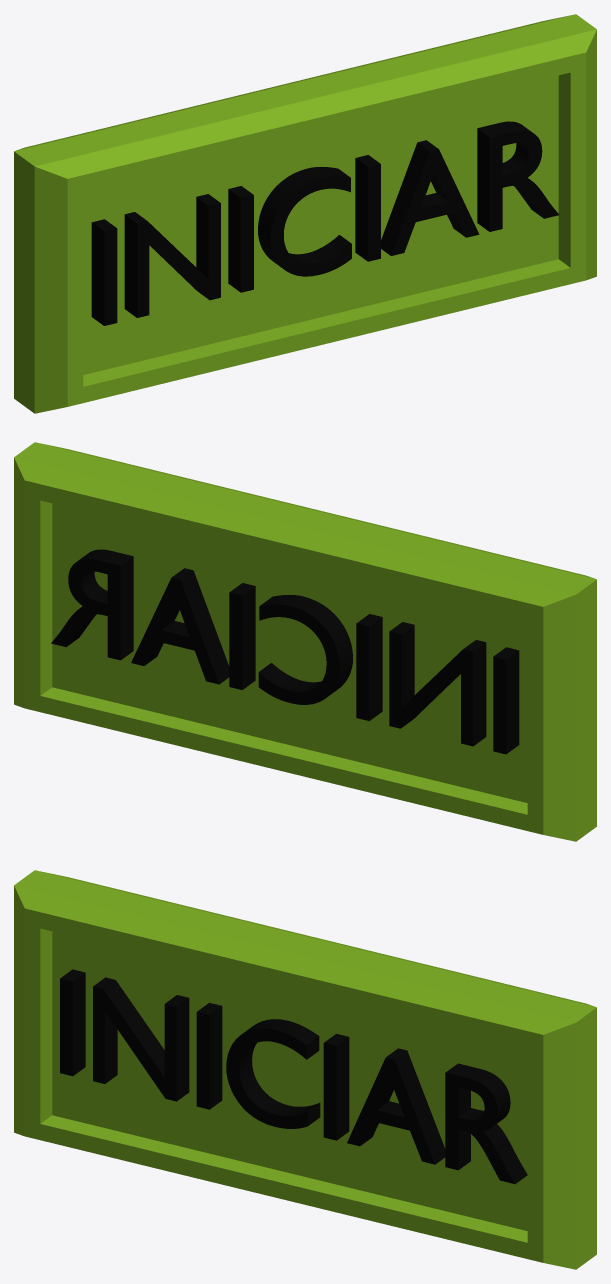
The model's file is btnIniciar.fbx.
3 renders of one model, top to bottom at view 1: azimuth 30°, elevation 25°; view 2: azimuth 150°, elevation 25°; view 3: azimuth 330°, elevation 25°, orthographic.
Parts seen in each view (by area): view 1: Cube, Text; view 2: Cube, Text; view 3: Cube, Text.
Part boxes in pixels (x1,y1,x2,y2): Cube: (14,14,596,413); Text: (91,121,558,325); Cube: (14,442,596,841); Text: (51,549,519,754); Cube: (14,870,596,1269); Text: (60,969,527,1184).
Bounding box in the file's own units: 602 × 253 × 83.08.
